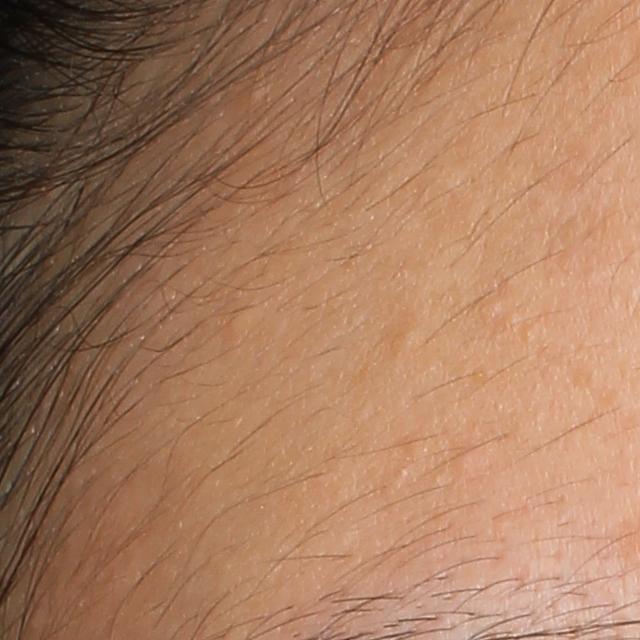comedo: (389, 327, 421, 354), (396, 465, 408, 477)
